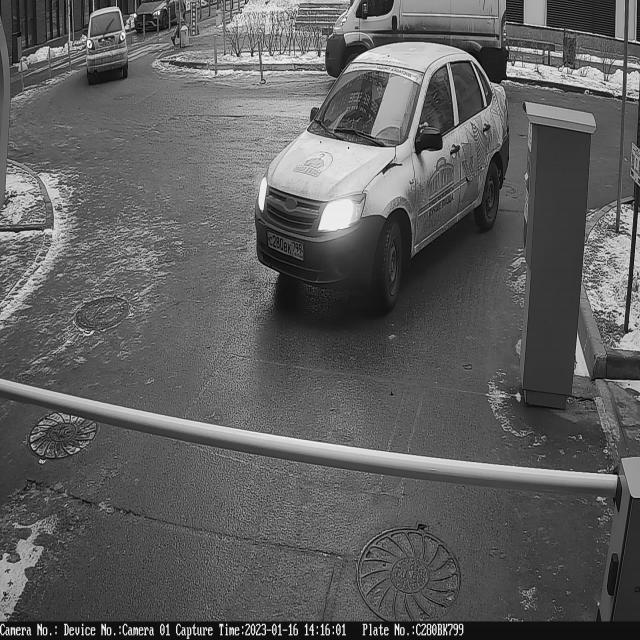car-plate-numbers: (265, 226, 306, 265)
